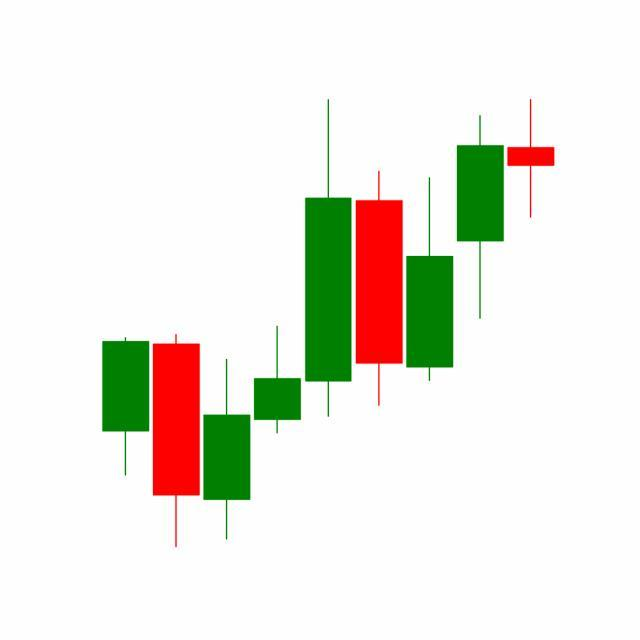Hikkake Pattern: (252, 99, 506, 439)
